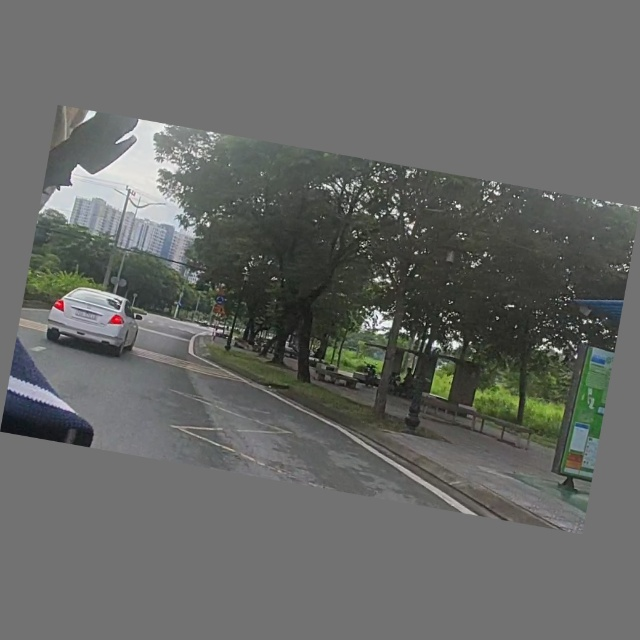R.303: (216, 296, 225, 306)
W.207: (217, 304, 229, 317)
